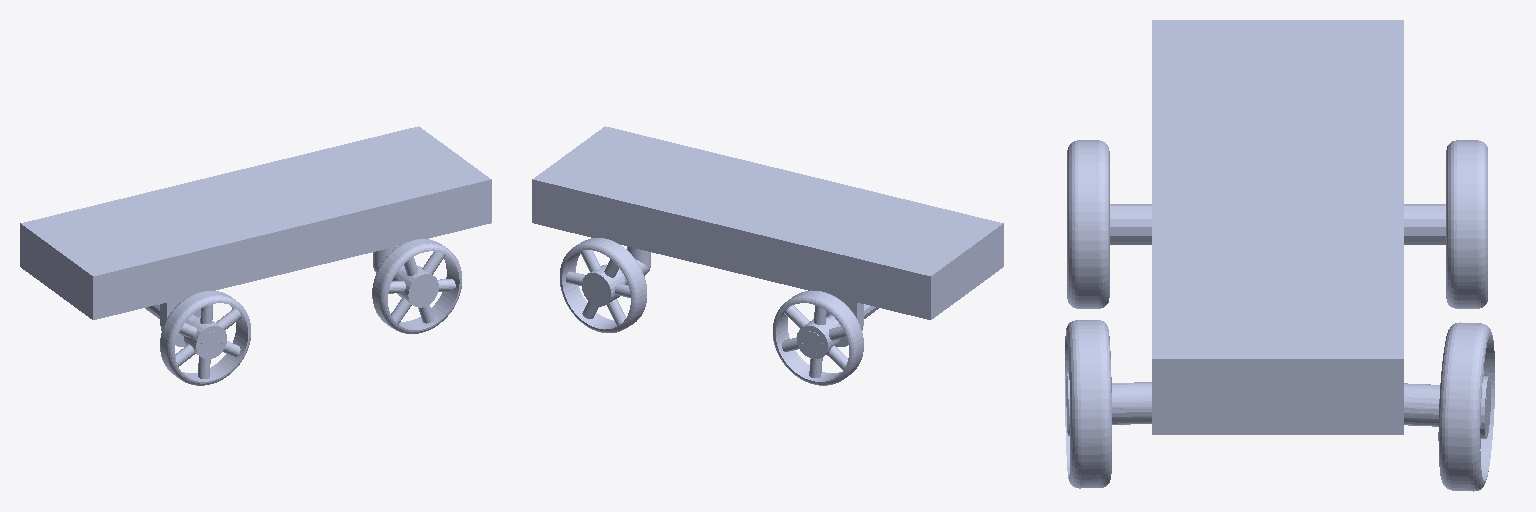
The robot description file, URDF, robot "mobile_robot":
<?xml version="1.0" ?>
<!-- =================================================================================== -->
<!-- |    This document was autogenerated by xacro from my_robot_integration.xacro     | -->
<!-- |    EDITING THIS FILE BY HAND IS NOT RECOMMENDED                                 | -->
<!-- =================================================================================== -->
<!-- Name your robot here -->
<robot name="mobile_robot">
  <link name="dummy_link">
    <pose>&quot;0 0 0 0 0 0&quot;</pose>
  </link>
  <joint name="dummy_joint" type="fixed">
    <parent link="dummy_link"/>
    <child link="base_link"/>
    <origin rpy="0 0 0" xyz="0 0 0"/>
    <axis xyz="0 0 0"/>
  </joint>
  <link name="base_link">
    <inertial>
      <origin rpy="0 0 0" xyz="-0.00536959074715763 2.25014524108572E-18 0.217177065699251"/>
      <mass value="30.1147830562474"/>
      <inertia ixx="0.267982422238061" ixy="3.18961658979921E-17" ixz="-0.0121132618103098" iyy="2.36479314961082" iyz="-1.13699162010747E-17" izz="2.57216262300582"/>
    </inertial>
    <visual>
      <origin rpy="0 0 0" xyz="0 0 0"/>
      <geometry>
        <mesh filename="package://mobile_robot/meshes/base_link.STL"/>
      </geometry>
      <material name="">
        <color rgba="0.792156862745098 0.819607843137255 0.933333333333333 1"/>
      </material>
    </visual>
    <collision>
      <origin rpy="0 0 0" xyz="0 0 0"/>
      <geometry>
        <mesh filename="package://mobile_robot/meshes/base_link.STL"/>
      </geometry>
    </collision>
  </link>
  <link name="rear_wheel_shaft">
    <inertial>
      <origin rpy="0 0 0" xyz="5.55111512312578E-17 -1.38777878078145E-17 0.254"/>
      <mass value="1.02790122650355"/>
      <inertia ixx="0.0222708703975125" ixy="-5.60277001569187E-22" ixz="-8.96443202510807E-22" iyy="0.0222708703975125" iyz="1.14744729921383E-19" izz="0.000331023775623048"/>
    </inertial>
    <visual>
      <origin rpy="0 0 0" xyz="0 0 0"/>
      <geometry>
        <mesh filename="package://mobile_robot/meshes/rear_wheel_shaft.STL"/>
      </geometry>
      <material name="">
        <color rgba="0.792156862745098 0.819607843137255 0.933333333333333 1"/>
      </material>
    </visual>
    <collision>
      <origin rpy="0 0 0" xyz="0 0 0"/>
      <geometry>
        <mesh filename="package://mobile_robot/meshes/rear_wheel_shaft.STL"/>
      </geometry>
    </collision>
  </link>
  <joint name="rear_wheel_shaft_joint" type="continuous">
    <origin rpy="-1.5708 0 0" xyz="-0.254 -0.254 0.10414"/>
    <parent link="base_link"/>
    <child link="rear_wheel_shaft"/>
    <axis xyz="0 0 1"/>
  </joint>
  <link name="rear_right_wheel">
    <inertial>
      <origin rpy="0 0 0" xyz="5.15331316508494E-09 -7.95165991385183E-09 0.0253999436872035"/>
      <mass value="0.627305726641923"/>
      <inertia ixx="0.00204147696517886" ixy="4.79054851895501E-10" ixz="-4.2698208997363E-11" iyy="0.00204148095012536" iyz="6.79392526445359E-11" izz="0.00389311509621042"/>
    </inertial>
    <visual>
      <origin rpy="0 0 0" xyz="0 0 0"/>
      <geometry>
        <mesh filename="package://mobile_robot/meshes/rear_right_wheel.STL"/>
      </geometry>
      <material name="">
        <color rgba="0.792156862745098 0.819607843137255 0.933333333333333 1"/>
      </material>
    </visual>
    <collision>
      <origin rpy="0 0 0" xyz="0 0 0"/>
      <geometry>
        <mesh filename="package://mobile_robot/meshes/rear_right_wheel.STL"/>
      </geometry>
    </collision>
  </link>
  <joint name="rear_right_wheel_joint" type="fixed">
    <origin rpy="0 0 0" xyz="0 0 0"/>
    <parent link="rear_wheel_shaft"/>
    <child link="rear_right_wheel"/>
    <axis xyz="0 0 0"/>
  </joint>
  <link name="rear_left_wheel">
    <inertial>
      <origin rpy="0 0 0" xyz="5.39349970241076E-09 7.79074413315151E-09 -0.0254000563127965"/>
      <mass value="0.627305726641922"/>
      <inertia ixx="0.00204148071053849" ixy="1.0615236852379E-09" ixz="-4.65888979961479E-11" iyy="0.00204147720476573" iyz="-6.53326387010376E-11" izz="0.00389311509621041"/>
    </inertial>
    <visual>
      <origin rpy="0 0 0" xyz="0 0 0"/>
      <geometry>
        <mesh filename="package://mobile_robot/meshes/rear_left_wheel.STL"/>
      </geometry>
      <material name="">
        <color rgba="0.792156862745098 0.819607843137255 0.933333333333333 1"/>
      </material>
    </visual>
    <collision>
      <origin rpy="0 0 0" xyz="0 0 0"/>
      <geometry>
        <mesh filename="package://mobile_robot/meshes/rear_left_wheel.STL"/>
      </geometry>
    </collision>
  </link>
  <joint name="rear_left_wheel_joint" type="fixed">
    <origin rpy="0 0 0" xyz="0 0 0.508"/>
    <parent link="rear_wheel_shaft"/>
    <child link="rear_left_wheel"/>
    <axis xyz="0 0 0"/>
  </joint>
  <link name="front_right_shaft">
    <inertial>
      <origin rpy="0 0 0" xyz="-0.0430899587810152 -0.00162292898887284 0.0239485318372451"/>
      <mass value="0.535359914923846"/>
      <inertia ixx="0.000838252769830383" ixy="-5.04285302841367E-05" ixz="-0.000554743528122547" iyy="0.00217524757125797" iyz="-2.08943179736833E-05" izz="0.00151373756430088"/>
    </inertial>
    <visual>
      <origin rpy="0 0 0" xyz="0 0 0"/>
      <geometry>
        <mesh filename="package://mobile_robot/meshes/front_right_shaft.STL"/>
      </geometry>
      <material name="">
        <color rgba="0.792156862745098 0.819607843137255 0.933333333333333 1"/>
      </material>
    </visual>
    <collision>
      <origin rpy="0 0 0" xyz="0 0 0"/>
      <geometry>
        <mesh filename="package://mobile_robot/meshes/front_right_shaft.STL"/>
      </geometry>
    </collision>
  </link>
  <joint name="front_right_shaft_joint" type="continuous">
    <origin rpy="0 0 1.5708" xyz="0.254 -0.1016 0.10414"/>
    <parent link="base_link"/>
    <child link="front_right_shaft"/>
    <axis xyz="0 0 1"/>
    <limit effort="0" lower="0" upper="0" velocity="0"/>
  </joint>
  <link name="front_right_wheel">
    <inertial>
      <origin rpy="0 0 0" xyz="-0.000955983299853636 9.266000994268E-09 0.0253819470341326"/>
      <mass value="0.627305726641922"/>
      <inertia ixx="0.00204410073423413" ixy="1.68592920576061E-09" ixz="-6.96409453575317E-05" iyy="0.00204148012514777" iyz="-1.52516835754976E-11" izz="0.00389049215213273"/>
    </inertial>
    <visual>
      <origin rpy="0 0 0" xyz="0 0 0"/>
      <geometry>
        <mesh filename="package://mobile_robot/meshes/front_right_wheel.STL"/>
      </geometry>
      <material name="">
        <color rgba="0.792156862745098 0.819607843137255 0.933333333333333 1"/>
      </material>
    </visual>
    <collision>
      <origin rpy="0 0 0" xyz="0 0 0"/>
      <geometry>
        <mesh filename="package://mobile_robot/meshes/front_right_wheel.STL"/>
      </geometry>
    </collision>
  </link>
  <joint name="front_right_wheel_joint" type="continuous">
    <origin rpy="-1.5708 0 -1.5708" xyz="-0.15229 -0.0057359 0"/>
    <parent link="front_right_shaft"/>
    <child link="front_right_wheel"/>
    <axis xyz="0.019056 0 0.99982"/>
  </joint>
  <link name="front_left_shaft">
    <inertial>
      <origin rpy="0 0 0" xyz="0.04289975377601 -0.00435772630933368 0.0239485642209087"/>
      <mass value="0.535359728660285"/>
      <inertia ixx="0.000850046101262467" ixy="0.000134804599224858" ixz="0.0005522943546741" iyy="0.00216345318304651" iyz="-5.6101367132104E-05" izz="0.0015137371289239"/>
    </inertial>
    <visual>
      <origin rpy="0 0 0" xyz="0 0 0"/>
      <geometry>
        <mesh filename="package://mobile_robot/meshes/front_left_shaft.STL"/>
      </geometry>
      <material name="">
        <color rgba="0.792156862745098 0.819607843137255 0.933333333333333 1"/>
      </material>
    </visual>
    <collision>
      <origin rpy="0 0 0" xyz="0 0 0"/>
      <geometry>
        <mesh filename="package://mobile_robot/meshes/front_left_shaft.STL"/>
      </geometry>
    </collision>
  </link>
  <joint name="front_left_shaft_joint" type="continuous">
    <origin rpy="0 0 1.5708" xyz="0.254 0.1016 0.10414"/>
    <parent link="base_link"/>
    <child link="front_left_shaft"/>
    <axis xyz="0 0 1"/>
    <limit effort="0" lower="0" upper="0" velocity="0"/>
  </joint>
  <link name="front_left_wheel">
    <inertial>
      <origin rpy="0 0 0" xyz="-0.00256689680593014 -9.45913411487531E-09 -0.0252700198156025"/>
      <mass value="0.627305726641922"/>
      <inertia ixx="0.0020603888651654" ixy="1.95432978665317E-09" ixz="0.000186166060736423" iyy="0.00204147956802362" iyz="-1.17944122889787E-10" izz="0.00387420457832561"/>
    </inertial>
    <visual>
      <origin rpy="0 0 0" xyz="0 0 0"/>
      <geometry>
        <mesh filename="package://mobile_robot/meshes/front_left_wheel.STL"/>
      </geometry>
      <material name="">
        <color rgba="0.792156862745098 0.819607843137255 0.933333333333333 1"/>
      </material>
    </visual>
    <collision>
      <origin rpy="0 0 0" xyz="0 0 0"/>
      <geometry>
        <mesh filename="package://mobile_robot/meshes/front_left_wheel.STL"/>
      </geometry>
    </collision>
  </link>
  <joint name="front_left_wheel_joint" type="continuous">
    <origin rpy="-1.5708 0 -1.5708" xyz="0.15162 -0.015401 0"/>
    <parent link="front_left_shaft"/>
    <child link="front_left_wheel"/>
    <axis xyz="0.019056 0 0.99982"/>
  </joint>
  <link name="base_laser">
    <inertial>
      <origin rpy="0 0 0" xyz="-0.00029774 0.0066667 0.00013047"/>
      <mass value="0.15717"/>
      <inertia ixx="6.7885E-05" ixy="-1.3987E-07" ixz="-8.1554E-07" iyy="0.00013173" iyz="-9.0932E-08" izz="7.1972E-05"/>
    </inertial>
    <visual>
      <origin rpy="0 0 0" xyz="0 0 0"/>
      <geometry>
        <mesh filename="package://mobile_robot/meshes/ydlidar.dae"/>
      </geometry>
      <material name="">
        <color rgba="0.64706 0.61961 0.58824 1"/>
      </material>
    </visual>
    <collision>
      <origin rpy="0 0 0" xyz="0 0 0"/>
      <geometry>
        <mesh filename="package://mobile_robot/meshes/ydlidar.dae"/>
      </geometry>
    </collision>
  </link>
  <link name="laser_frame">
    <inertial>
      <origin rpy="0 0 0" xyz="-0.00036659 0.00064155 -0.00027052"/>
      <mass value="0.25482"/>
      <inertia ixx="8.9194E-05" ixy="1.8116E-07" ixz="3.6435E-08" iyy="0.00018279" iyz="2.423E-07" izz="0.00011103"/>
    </inertial>
    <visual>
      <origin rpy="0 0 0" xyz="0 0 0"/>
      <geometry>
        <mesh filename="package://mobile_robot/meshes/ydlidar.dae"/>
      </geometry>
      <material name="">
        <color rgba="0.64706 0.61961 0.58824 1"/>
      </material>
    </visual>
    <collision>
      <origin rpy="0 0 0" xyz="0 0 0"/>
      <geometry>
        <mesh filename="package://mobile_robot/meshes/ydlidar.dae"/>
      </geometry>
    </collision>
  </link>
  <joint name="laser_joint" type="fixed">
    <origin rpy="0 0 0" xyz="0 0 0.03172"/>
    <parent link="base_laser"/>
    <child link="laser_frame"/>
    <axis xyz="0 0 0"/>
  </joint>
  <!-- Add your gazebo sensors here -->
  <gazebo reference="base_laser">
    <!-- <gravity>true</gravity> -->
    <!-- Gazebo has fixed set of Sensors types. Check them out here <> -->
    <sensor name="laser" type="ray">
      <!-- Add in your sensor characteristics -->
      <pose> 0 0 0 0 0 0 </pose>
      <visualise>true</visualise>
      <update_rate>40</update_rate>
      <!-- <always_on>true</always_on> -->
      <ray>
        <scan>
          <horizontal>
            <samples>720</samples>
            <resolution>1</resolution>
            <min_angle>-1.570796</min_angle>
            <max_angle>1.570796</max_angle>
          </horizontal>
        </scan>
        <range>
          <min>0.10</min>
          <max>30.0</max>
          <resolution>0.01</resolution>
        </range>
        <noise>
          <type>gaussian</type>
          <mean>0.0</mean>
          <stddev>0.01</stddev>
        </noise>
      </ray>
      <plugin filename="libgazebo_ros_laser.so" name="gazebo_ros_head_hokuyo_controller">
        <!-- Use topic name as /my_robot/scan -->
        <topicName>/mobile_robot/scan</topicName>
        <frameName>laser_frame</frameName>
      </plugin>
    </sensor>
  </gazebo>
  <!--  Gazebo plugin for control here is already added for you -->
  <gazebo>
    <plugin filename="libgazebo_ros_control.so" name="gazebo_ros_control">
      <robotNamespace>/mobile_robot</robotNamespace>
      <robotSimType>gazebo_ros_control/DefaultRobotHWSim</robotSimType>
      <legacyModeNS>true</legacyModeNS>
    </plugin>
  </gazebo>
  <!-- Create a joint between your robot and sensor 
	  <link name="base_lidar">
  <inertial>
    <origin xyz="0 0 0" rpy="0 0 0"/>
    <mass value="0.125"/>
    <inertia ixx="0.001"  ixy="0"  ixz="0" iyy="0.001" iyz="0" izz="0.001" />
  </inertial>

  <collision>
    <origin xyz="0 0 0" rpy="0 0 0"/>
    <geometry>
       <cylinder radius="0.0508" length="0.055"/>
    </geometry>
  </collision>

  <visual>
    <origin xyz="0 0 0" rpy="0 0 0"/>
    <geometry>
       <cylinder radius="0.0508" length="0.055"/>
    </geometry>
  </visual>
</link>-->
  <joint name="lidar_joint" type="fixed">
    <parent link="base_link"/>
    <child link="base_laser"/>
    <origin rpy="90 0 0" xyz="0 0 0.44"/>
  </joint>
</robot>

--- Render facts (derived) ---
The picture shows the robot from 3 angles, left to right: view 1: azimuth 30°, elevation 25°; view 2: azimuth 150°, elevation 25°; view 3: azimuth 270°, elevation 25°; orthographic projection.
Model mobile_robot with 11 links and 10 joints (5 continuous, 5 fixed), rooted at dummy_link, posed every joint at zero.
Visible links, largest first — view 1: base_link, front_right_wheel, rear_right_wheel, front_right_shaft, rear_wheel_shaft; view 2: base_link, front_left_wheel, rear_left_wheel, front_left_shaft, rear_wheel_shaft; view 3: base_link, front_left_wheel, front_right_wheel, rear_right_wheel, rear_left_wheel, rear_wheel_shaft, front_right_shaft, front_left_shaft.
Link boxes in pixels (x1,y1,x2,y2): base_link: [20, 126, 491, 346]; front_right_wheel: [372, 239, 461, 333]; rear_right_wheel: [160, 291, 250, 385]; front_right_shaft: [373, 246, 433, 301]; rear_wheel_shaft: [145, 304, 221, 353]; base_link: [532, 126, 1003, 346]; front_left_wheel: [560, 238, 646, 332]; rear_left_wheel: [773, 290, 863, 385]; front_left_shaft: [587, 246, 650, 300]; rear_wheel_shaft: [802, 304, 878, 353]; base_link: [1152, 20, 1403, 434]; front_left_wheel: [1438, 322, 1494, 491]; front_right_wheel: [1065, 320, 1111, 488]; rear_right_wheel: [1067, 140, 1109, 308]; rear_left_wheel: [1446, 140, 1487, 308]; rear_wheel_shaft: [1110, 204, 1445, 244]; front_right_shaft: [1067, 382, 1151, 424]; front_left_shaft: [1404, 383, 1489, 427].
Bounding box of the posed robot: 0.9652 × 0.5194 × 0.2667 m (x, y, z).
8 mesh visuals loaded from 9 distinct referenced files (8 binary STL); not drawn: 2 (reference not matched to a file when rendering).
